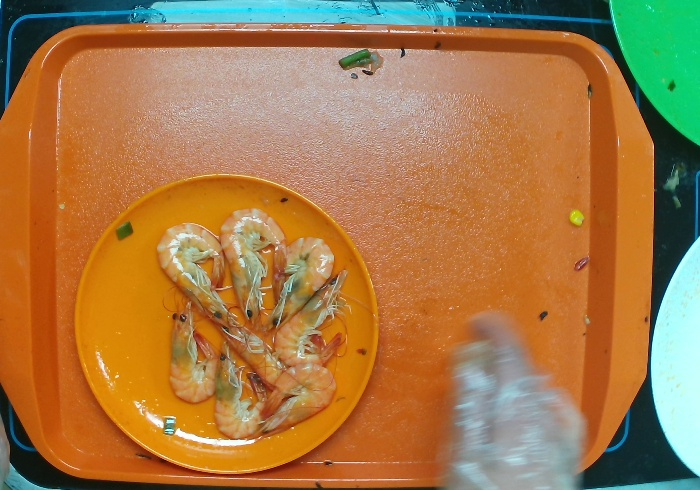HZYJPL-Ju_Huang_Yuan_Pan: (73, 170, 379, 477)
